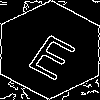E: (25, 25, 85, 82)
